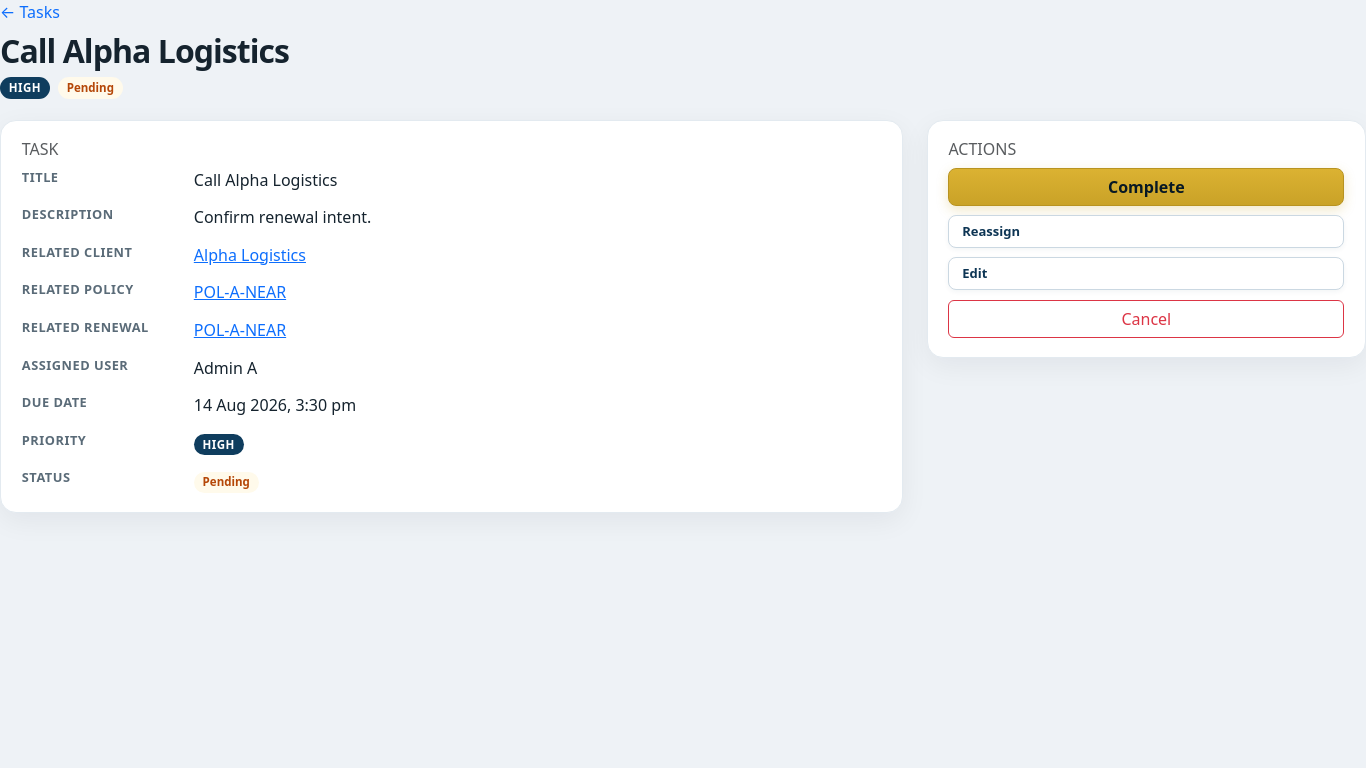
TaskDetailPage › completes a task from the detail page
This screenshot has width=1366, height=768.
Expected: the heading "Call Alpha Logistics" is shown, [0,32,289,70]
Click the button "Complete".
click(1146, 186)  # box [948,168,1344,206]
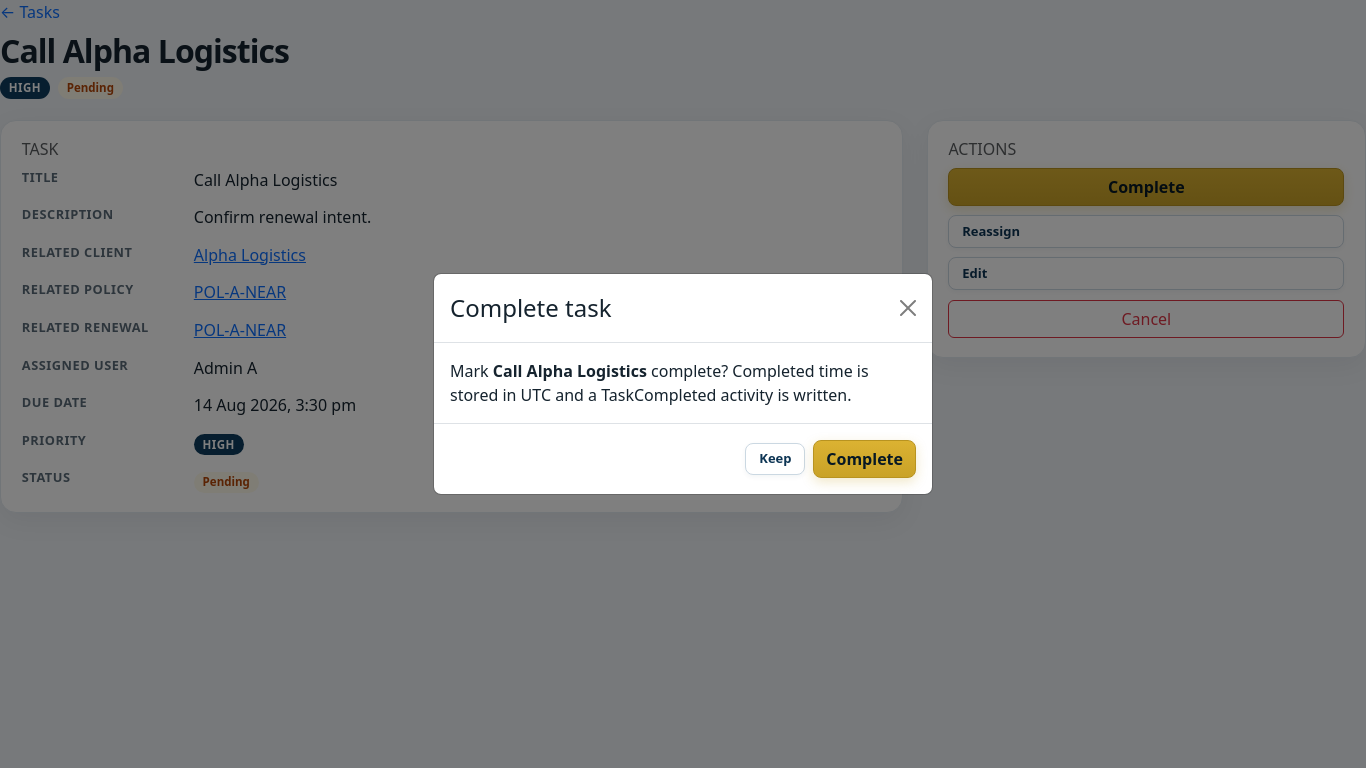
Result: the dialog shows "Complete task" at [450,291,612,324]
Click the button "Complete".
click(865, 459)  # box [813,440,916,478]
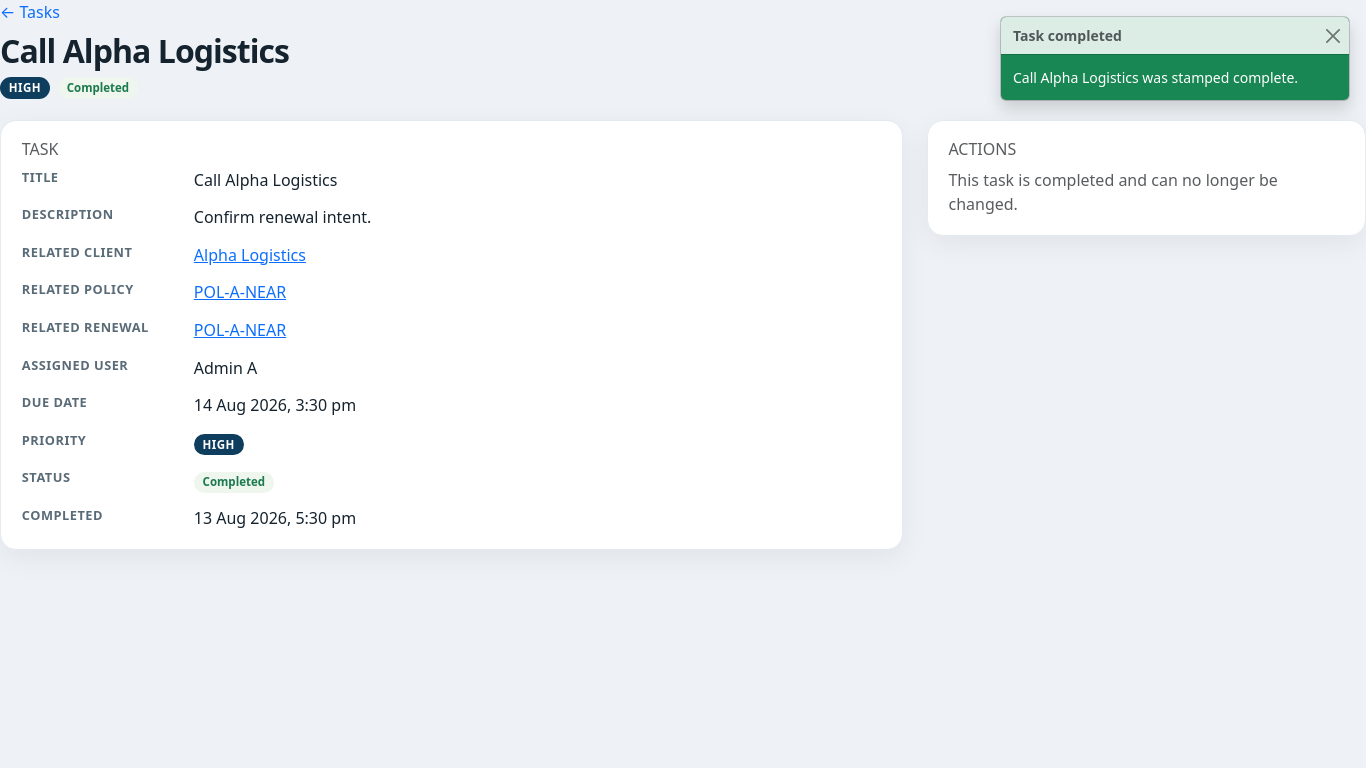
Result: the text "Call Alpha Logistics was stamped complete." is shown at [1013,68,1298,87]
